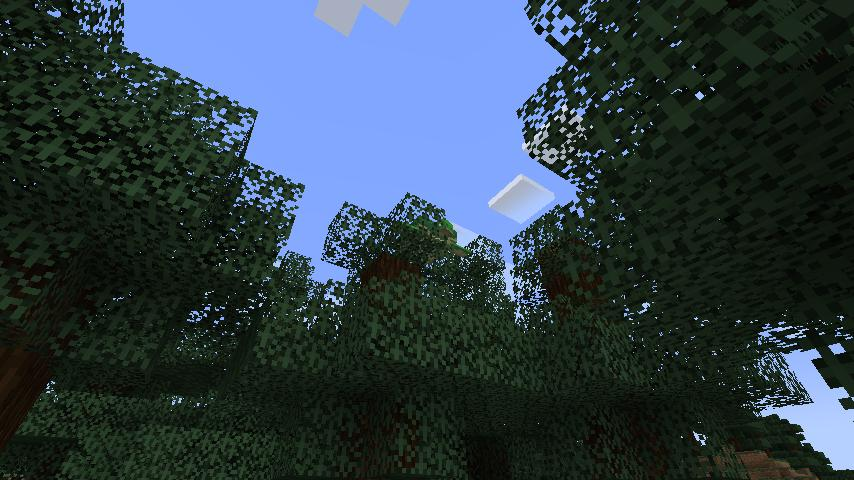turtle: (392, 210, 471, 268)
